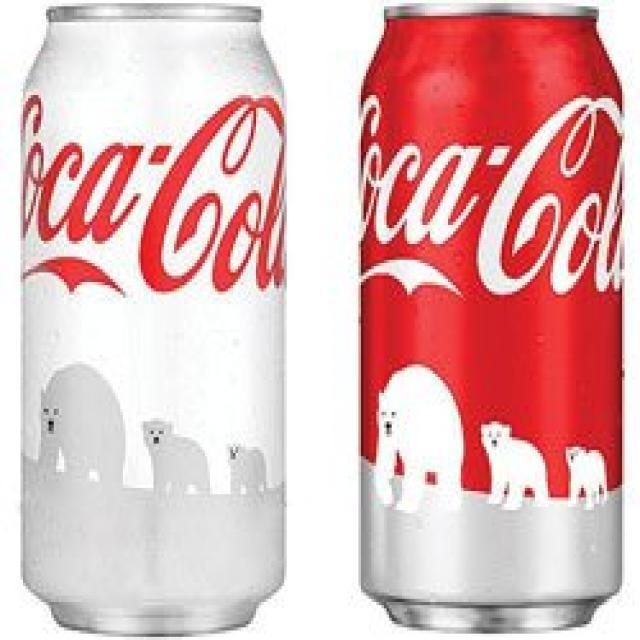coca-cola: (357, 4, 628, 632)
